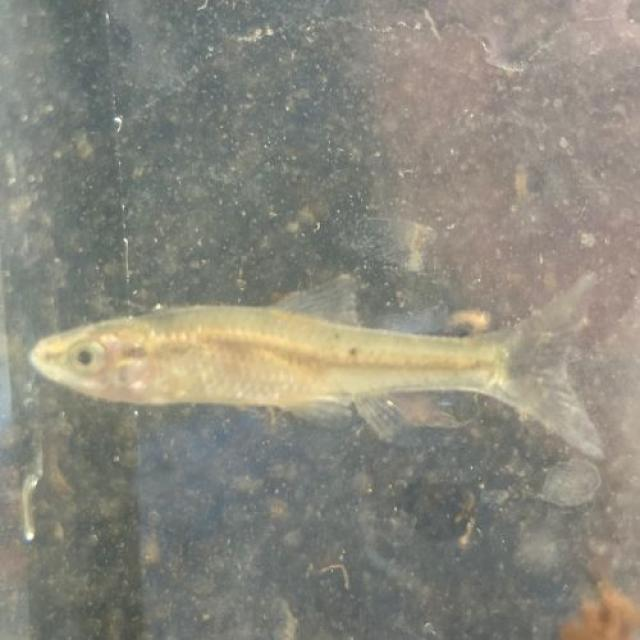Cakil Baligi: (26, 268, 617, 464)
